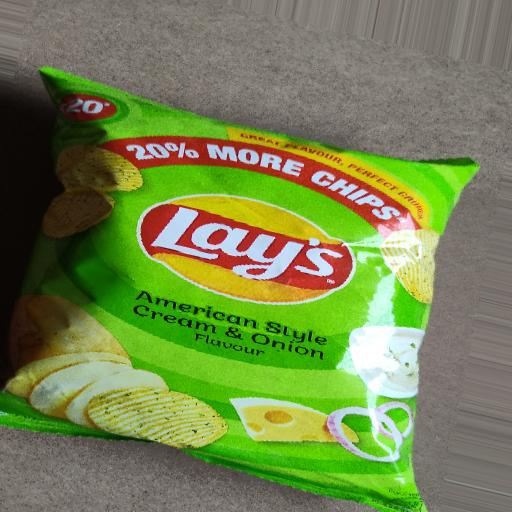Lays Green Small pack (American style cream and onion): (3, 65, 504, 512)
